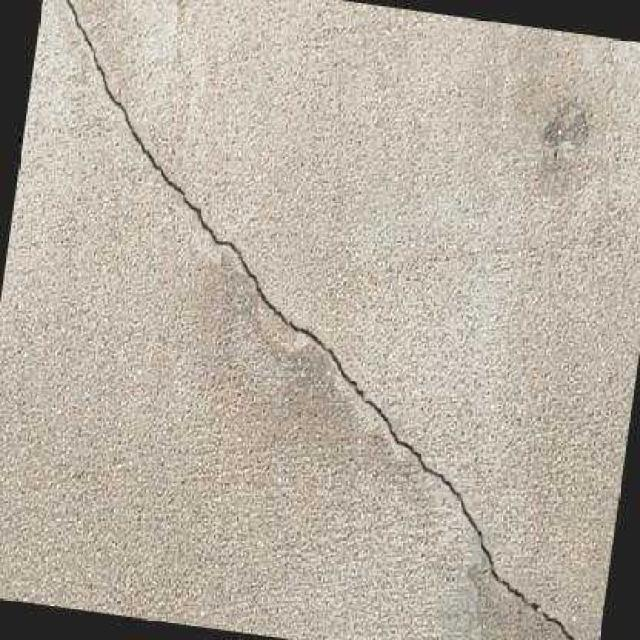D00: (62, 0, 576, 640)
